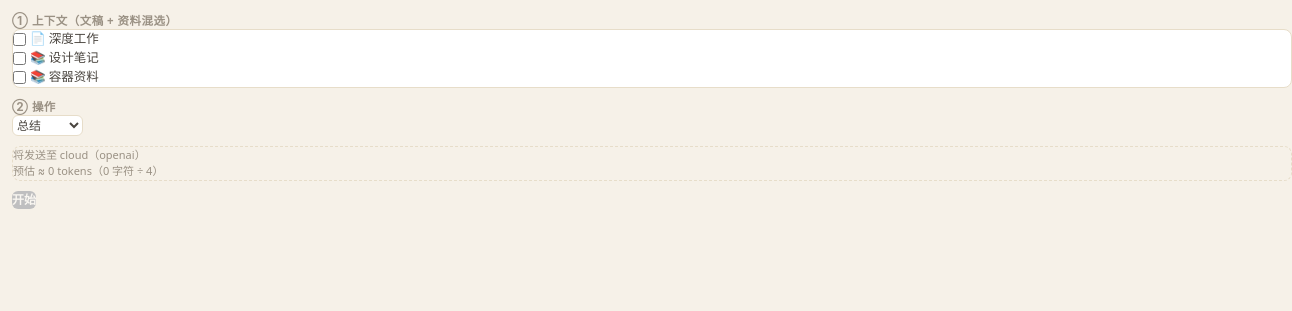
Scenario: AIWorkbench › 流中取消 → aiCancel + 预览复位；错误事件显示消息
Click the checkbox with test id "ctx-post-p1": (20, 40) [13,33,26,46]
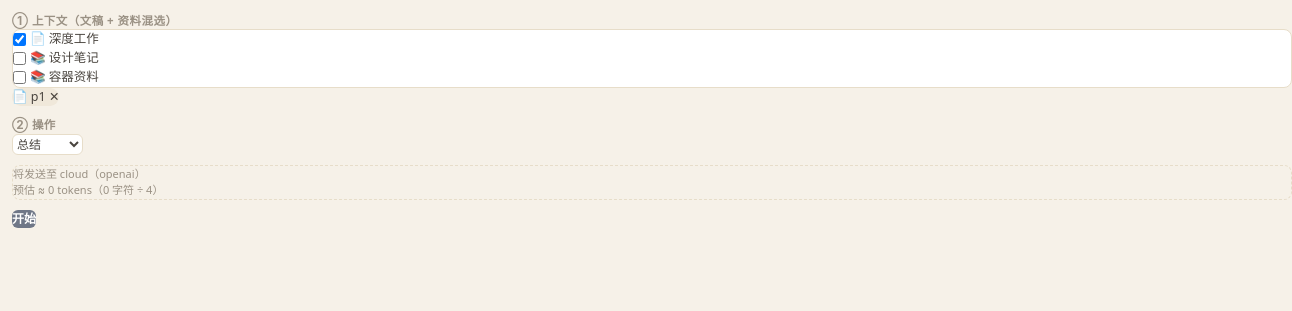
Click the button with test id "ai-start": (24, 218) [12,210,36,228]
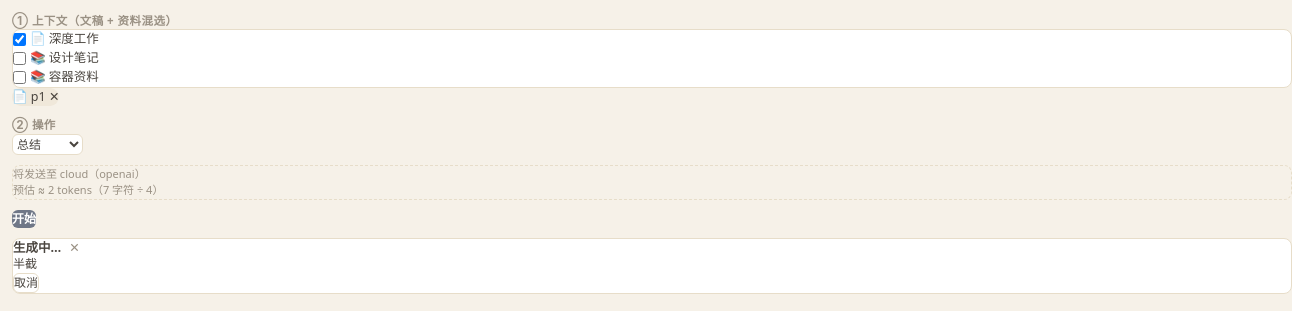
Click the button with test id "ai-cancel": (26, 283) [13,273,39,293]
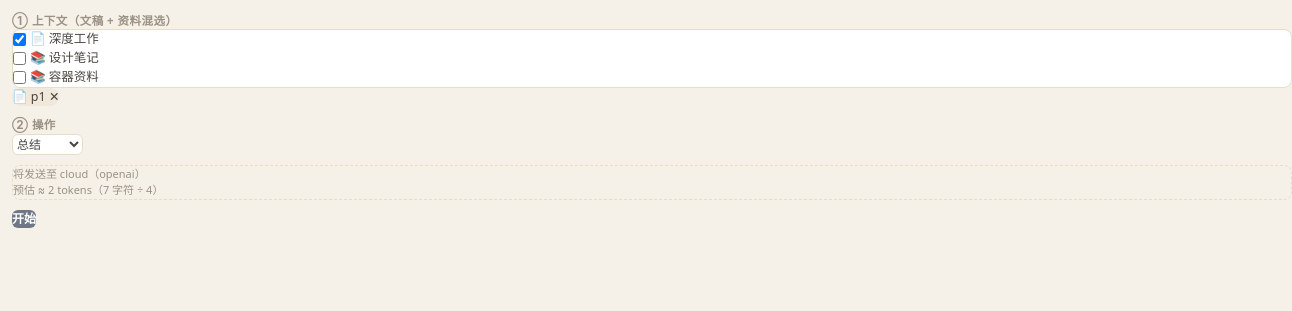
Result: the element with test id "ai-preview" is gone
Click the button with test id "ai-start": (24, 218) [12,210,36,228]
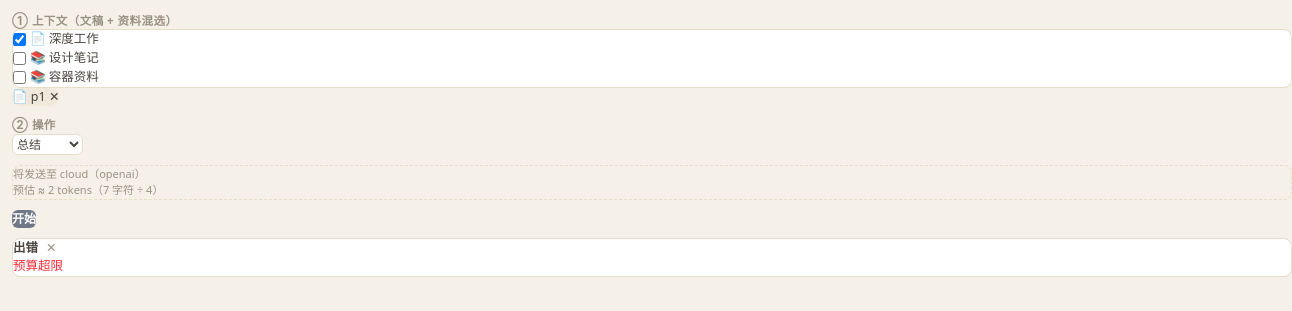
Result: the text with test id "ai-error" reads "预算超限" at [13,257,63,274]
